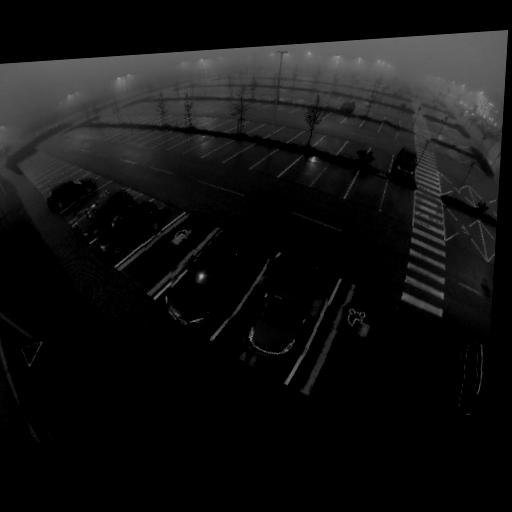busy: (234, 248, 335, 365), (167, 221, 272, 326), (442, 328, 491, 417), (97, 200, 164, 255), (74, 189, 131, 238), (47, 174, 96, 209), (390, 147, 432, 183)
free: (299, 299, 387, 402), (144, 230, 196, 271), (77, 191, 109, 218), (353, 181, 383, 202), (384, 193, 411, 213), (321, 171, 349, 190), (294, 164, 321, 183), (377, 121, 401, 141), (78, 196, 100, 213), (342, 145, 365, 160), (362, 117, 382, 134), (322, 113, 344, 127), (343, 113, 363, 127), (267, 157, 290, 169), (298, 134, 318, 146), (320, 139, 340, 151), (254, 122, 272, 135), (241, 152, 260, 163), (276, 130, 295, 140), (223, 145, 239, 155)
